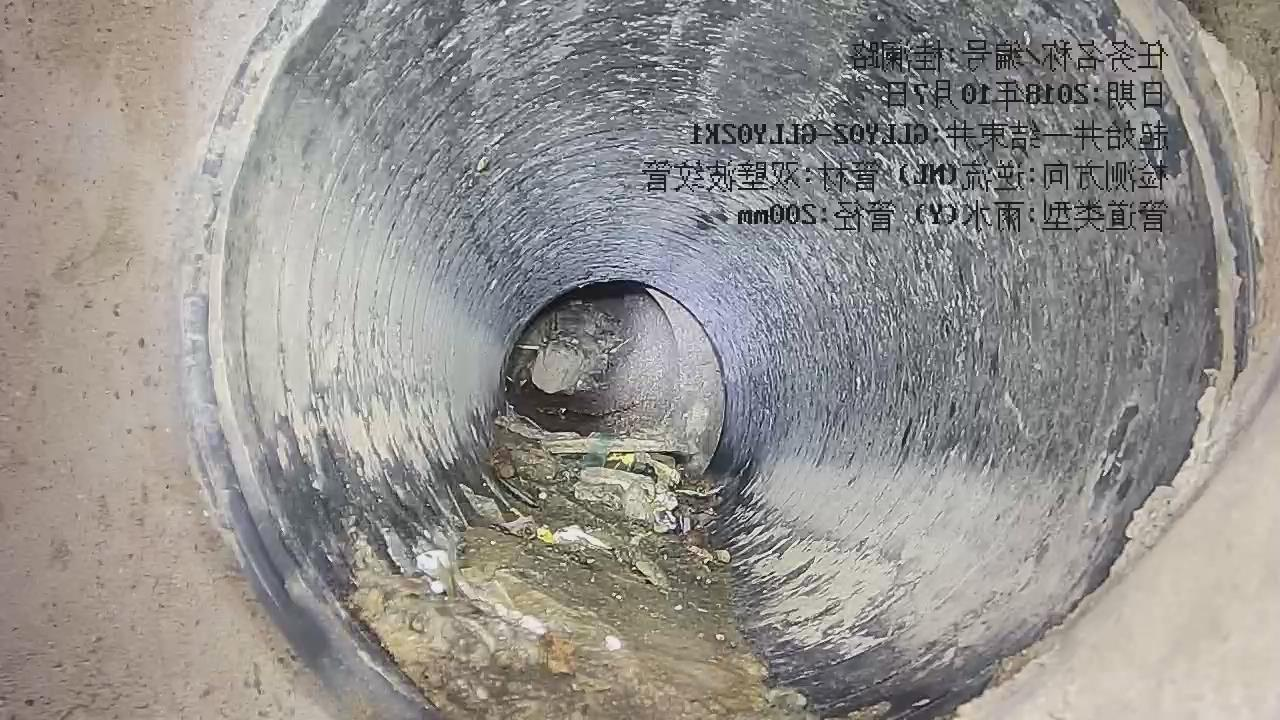CJ: (352, 420, 810, 719)
CKTJ: (646, 288, 725, 472)
